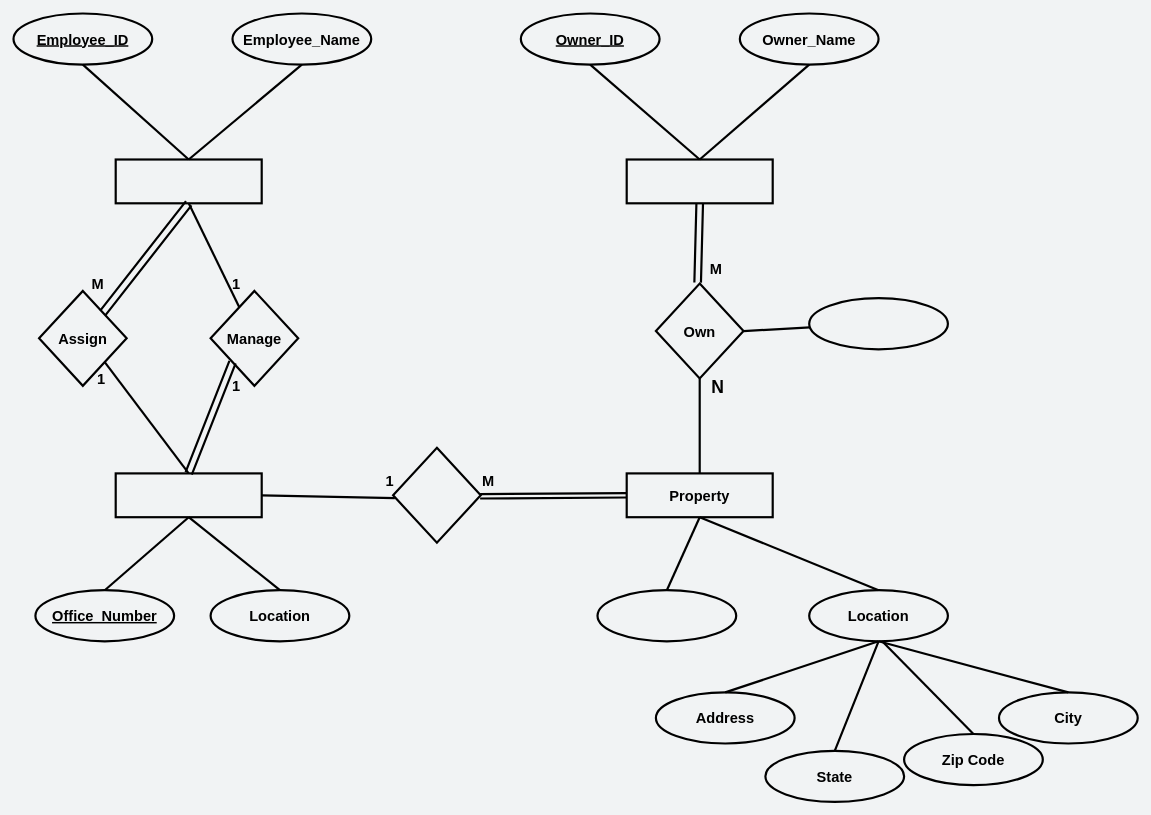
This 1151x815 diagram has some shape labels left out. Here are the shapes that lost their labels. From the top down, the box of each, then its label:
(114, 158, 262, 204): Employee
(625, 158, 773, 204): Owners
(808, 297, 949, 350): Percent Owned
(114, 472, 262, 518): Sales Office
(392, 446, 481, 543): Listed With
(596, 589, 737, 642): Property_ID
